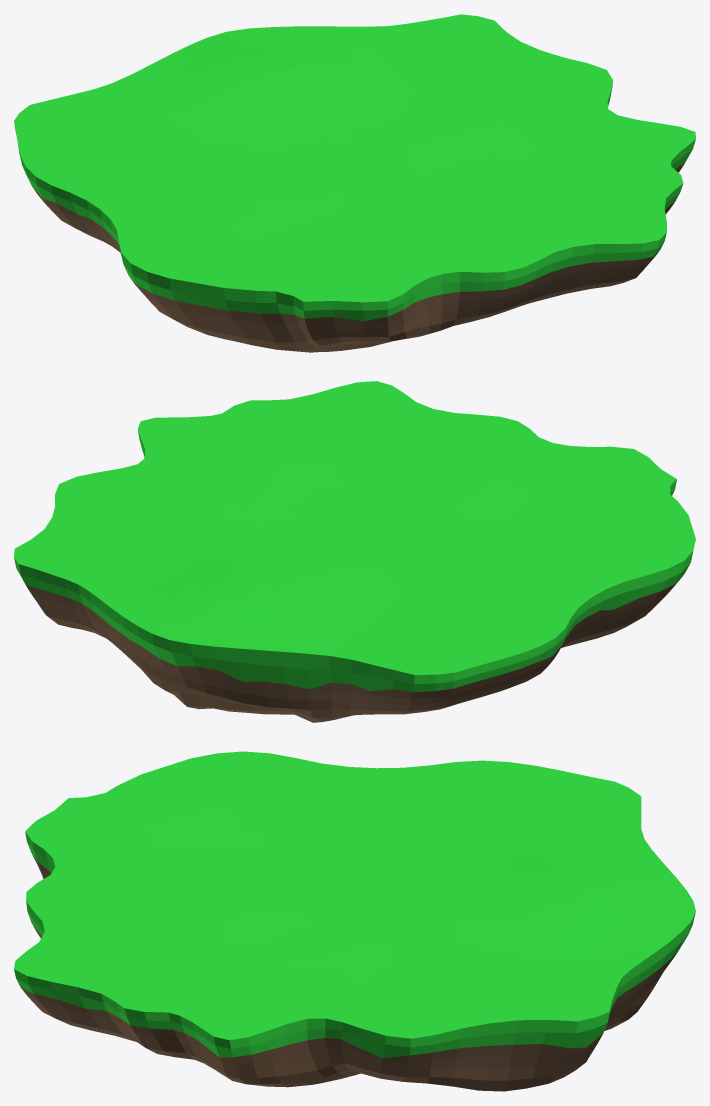
The model's file is StationaryPlatform01.fbx.
3 renders of one model, top to bottom at view 1: azimuth 30°, elevation 25°; view 2: azimuth 150°, elevation 25°; view 3: azimuth 270°, elevation 25°, orthographic. The views are drawn at different scales.
Parts seen in each view (by area): view 1: Platform; view 2: Platform; view 3: Platform.
Part boxes in pixels (x1,y1,x2,y2): Platform: (14, 14, 695, 352); Platform: (14, 381, 695, 722); Platform: (14, 751, 695, 1091).
Size of the model in its own units: 3.92 by 0.93 by 3.91.
